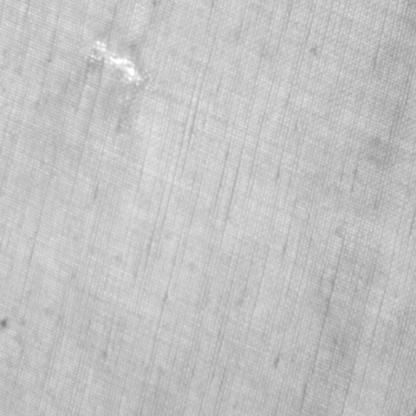hole: (90, 34, 150, 96)
